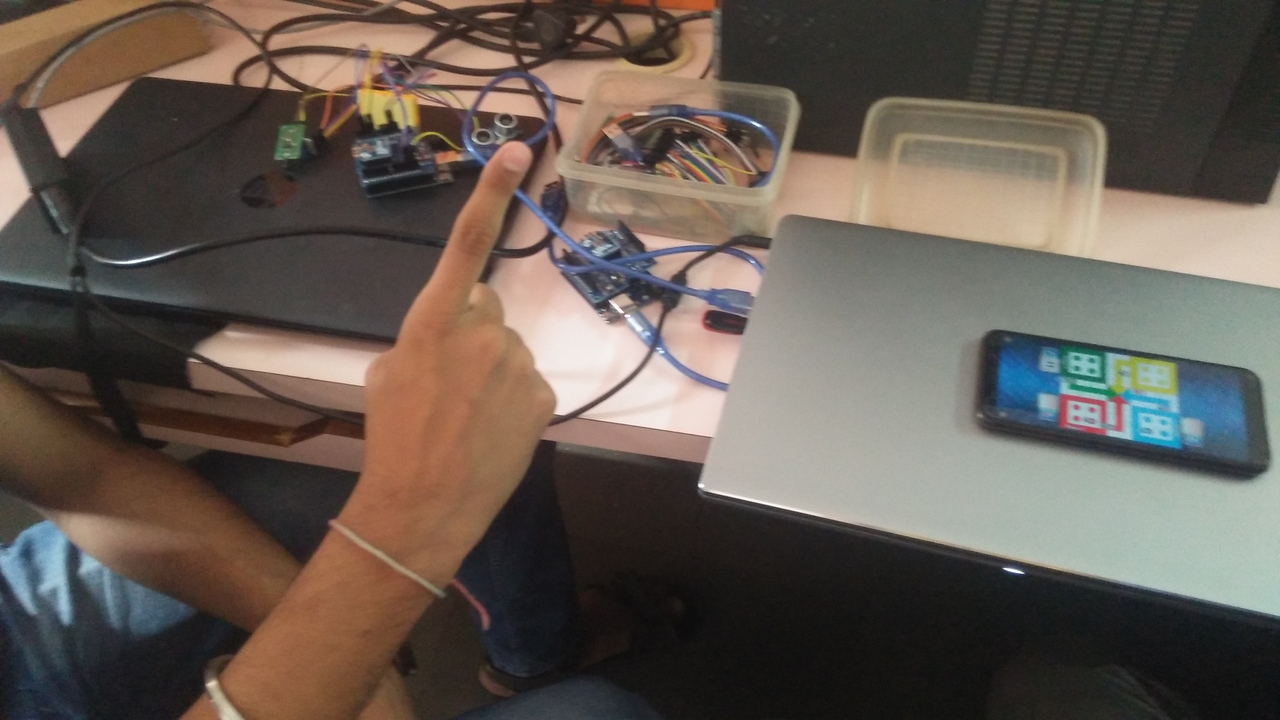fingertip: (478, 118, 540, 180)
